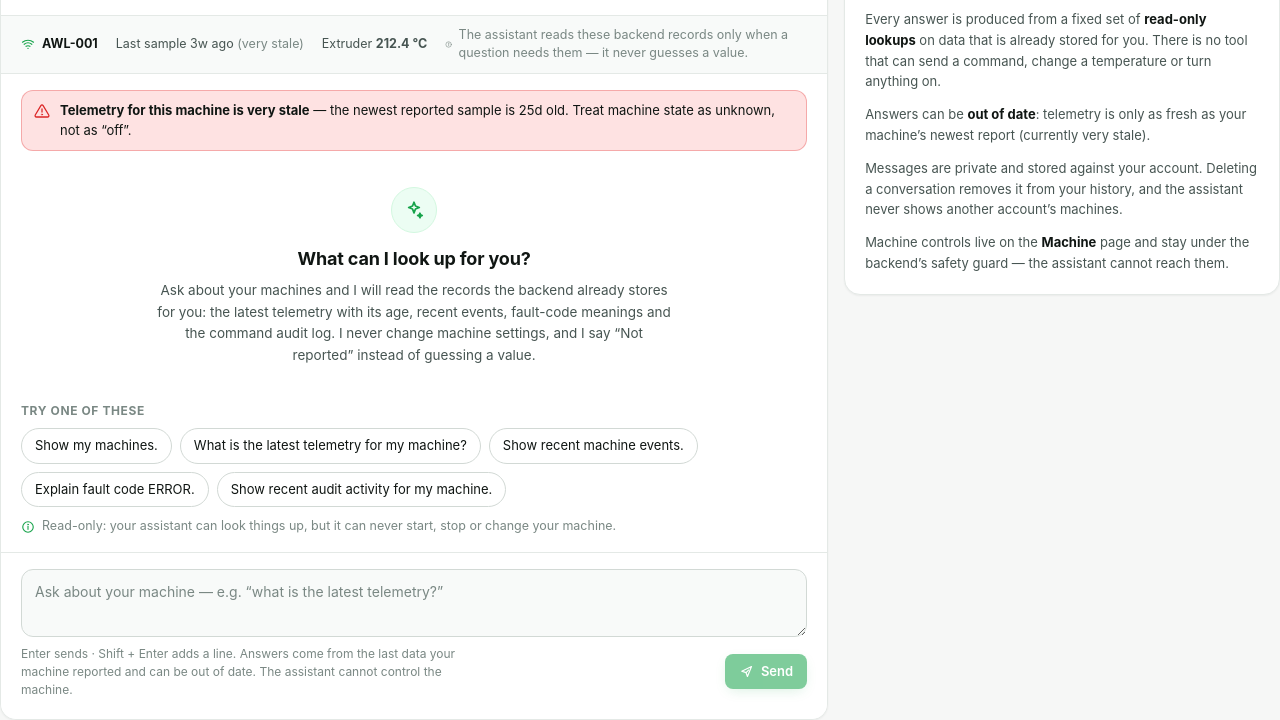
it: assistant page — failure handling › shows a rate-limit countdown and disables the composer until it expires
This screenshot has width=1280, height=720.
(page scrolled)
Replace the text in the text box named "ask the assistant" with "one more" at (414, 603), box [21, 569, 807, 636]
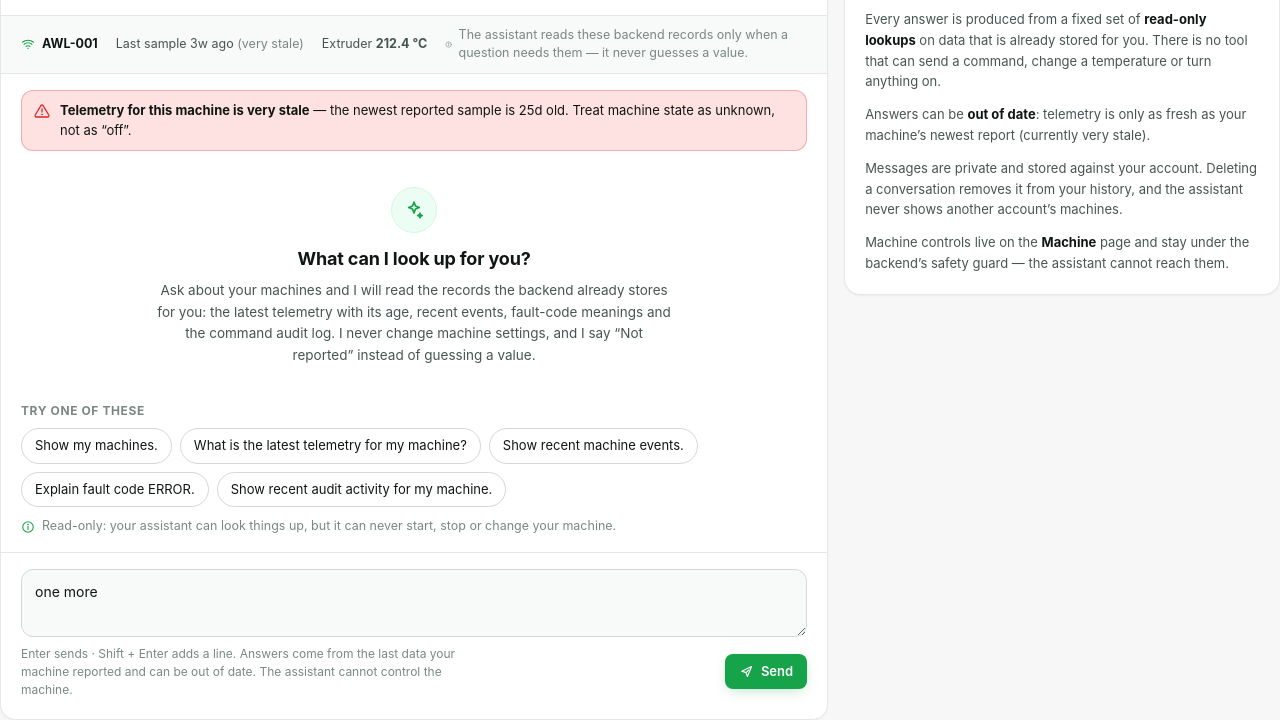
Click the button with aria-label "send message" at (766, 672), box [725, 654, 807, 689]
(page scrolled)
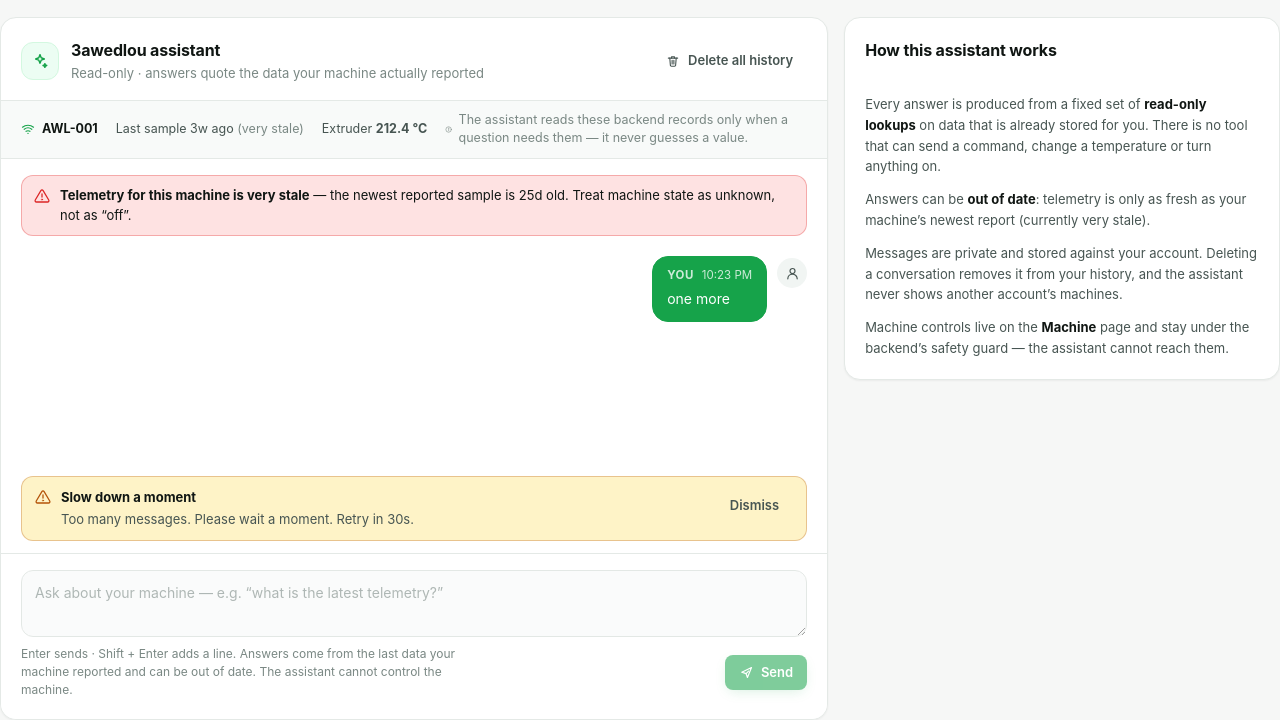
expect the text "Slow down a moment" is shown: met, box [61, 489, 196, 505]
expect the text "Too many messages. Please wait a moment. Retry in 30s." is shown: met, box [61, 510, 414, 526]
expect the text box named "ask the assistant" is disabled: met, box [21, 570, 807, 637]
